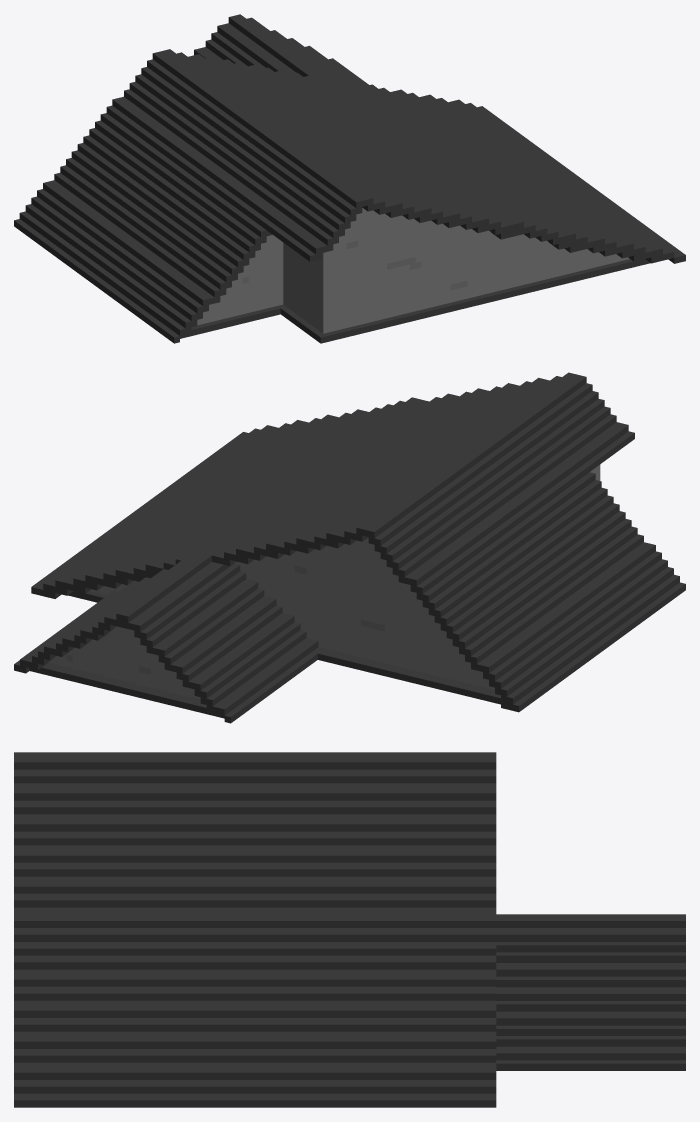
Rendered from Small House v0.5-0-Roof.obj.
3 renders of one model, top to bottom at view 1: azimuth 30°, elevation 25°; view 2: azimuth 150°, elevation 25°; view 3: azimuth 270°, elevation 25°, orthographic. The views are drawn at different scales.
Visible parts, largest first — view 1: Roof; view 2: Roof; view 3: Roof.
Part boxes in pixels (<box>): Roof: <box>14,14,685,343</box>; Roof: <box>14,372,685,723</box>; Roof: <box>14,752,685,1107</box>.
Bounding box in the file's own units: 8.1 × 2.3 × 8.5.
1 material, 1 textured.
